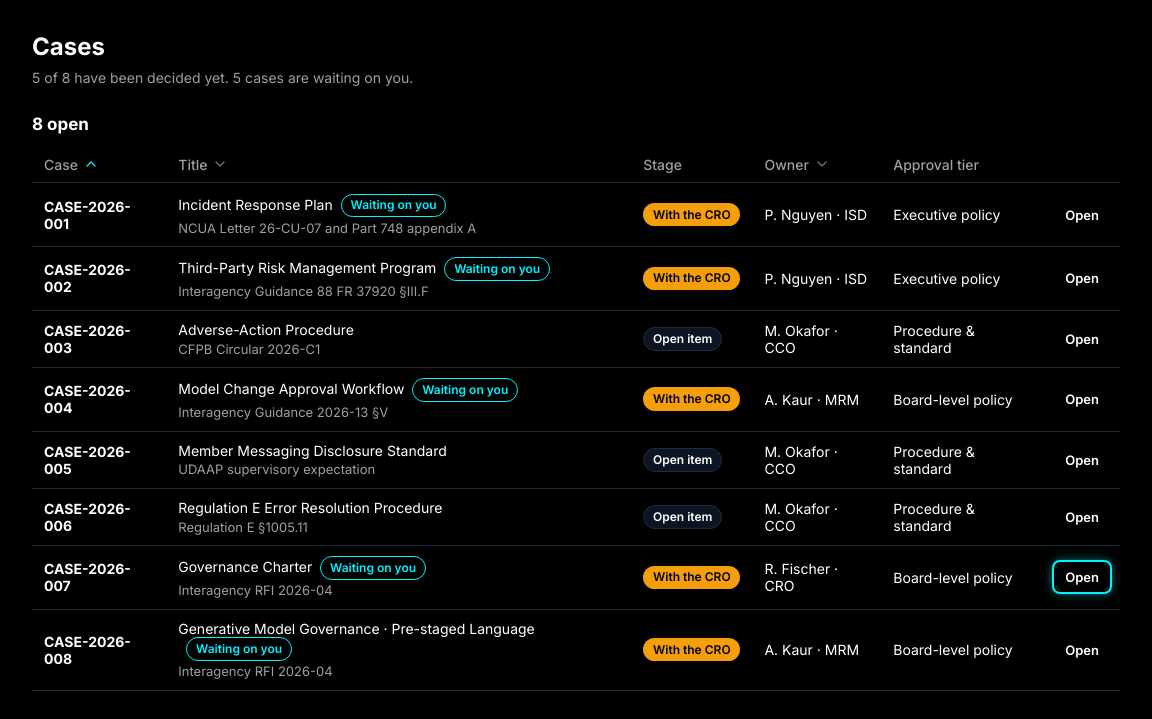
AC-r05-2 — export control is the ghost Button (P2), never competing with the per-type primary verb › the case side-car footer renders exactly one "Print / Save as PDF" Button, variant="ghost"
Check: the text "CASE-2026-007" is shown, box [44,560,131,594]
Click the button "Open" in the row of "CASE-2026-007". click: (1082, 577)
box: [1056,564,1108,590]
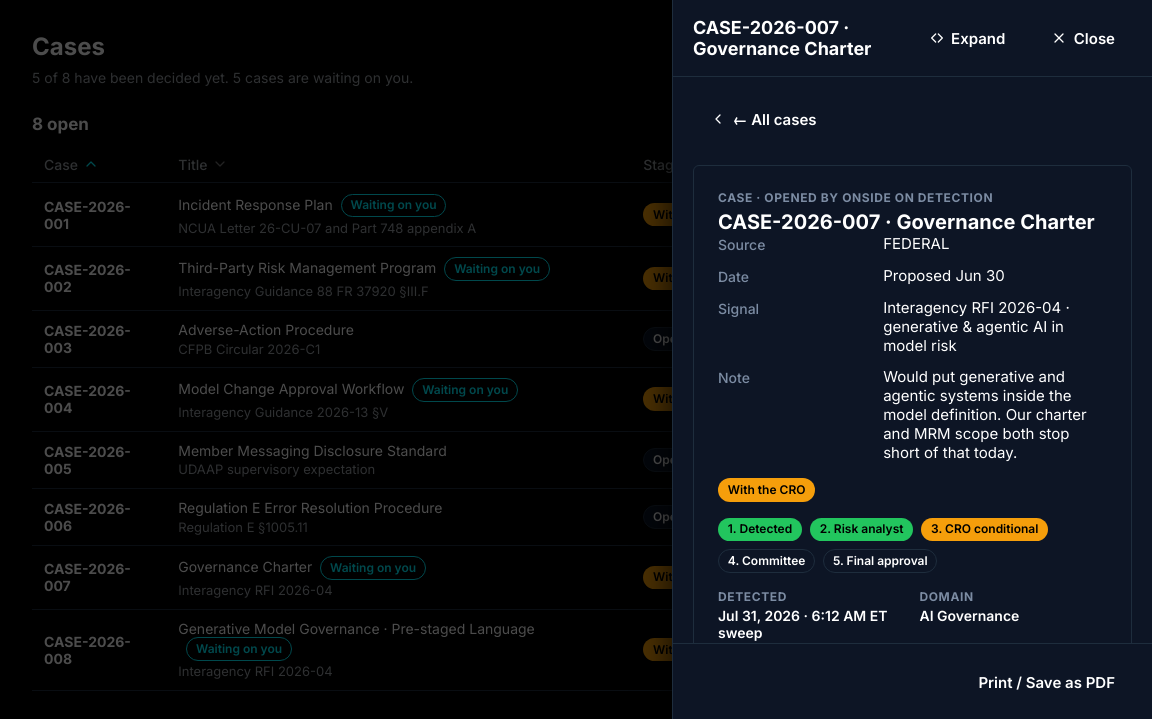
Check: the number of buttons "Print / Save as PDF" is 1, box [961,660,1132,704]
